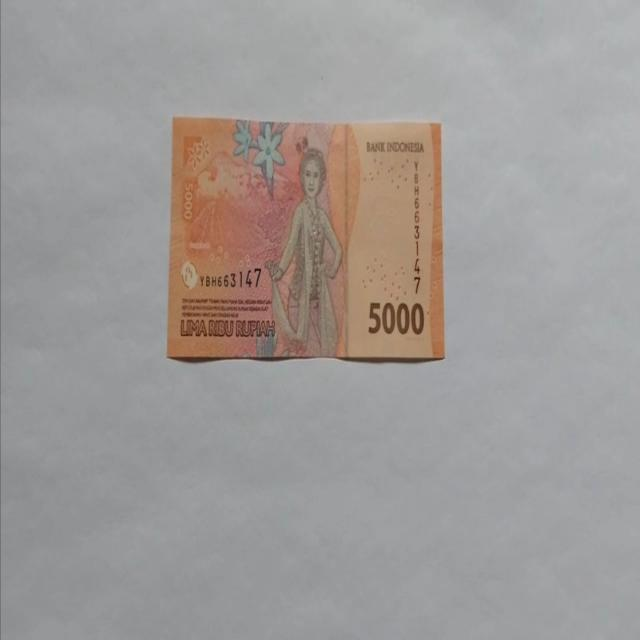lima ribu rupiah: (167, 115, 446, 362), (264, 146, 344, 358)
